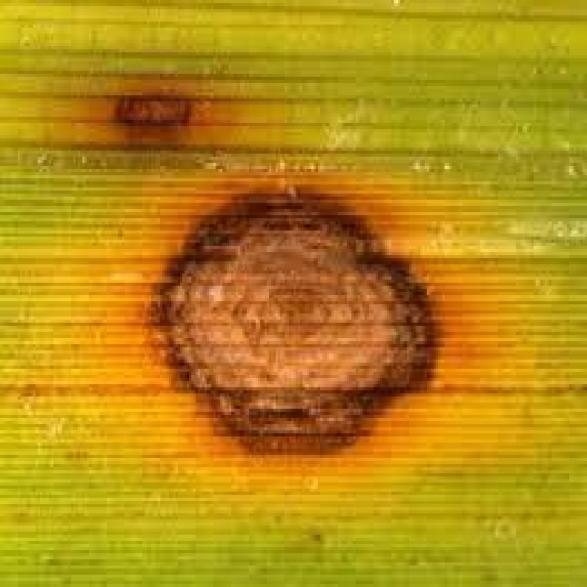Brown_Spot: (49, 102, 527, 507), (67, 40, 231, 166)
